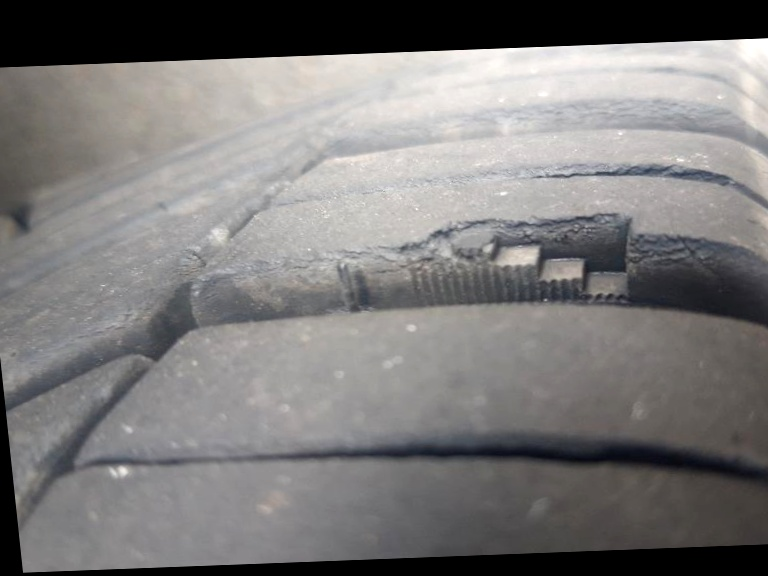temoin:80: (396, 204, 651, 321)
